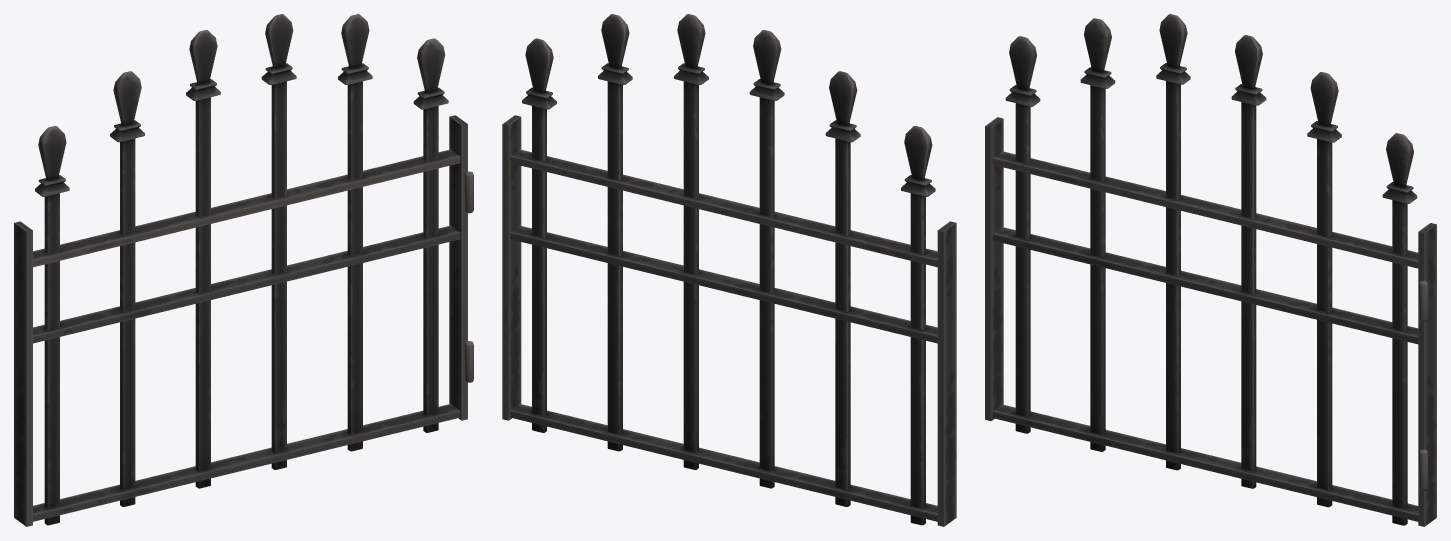
Rendered from StreetFence02_A7.FBX.
3 views of the same model, side by side, from view 1: azimuth 30°, elevation 25°; view 2: azimuth 150°, elevation 25°; view 3: azimuth 330°, elevation 25° (orthographic).
Visible parts, largest first — view 1: StreetFence02_A7; view 2: StreetFence02_A7; view 3: StreetFence02_A7.
Part boxes in pixels (x1=…): StreetFence02_A7: x1=14, y1=14, x2=473, y2=526; StreetFence02_A7: x1=502, y1=14, x2=956, y2=526; StreetFence02_A7: x1=985, y1=14, x2=1436, y2=526.
Size of what is drawn, in the model's own units: 2.13 by 2.08 by 0.1305.
